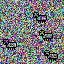sheep: (2, 38, 18, 51), (33, 11, 48, 24), (44, 49, 58, 62), (39, 29, 54, 41)
